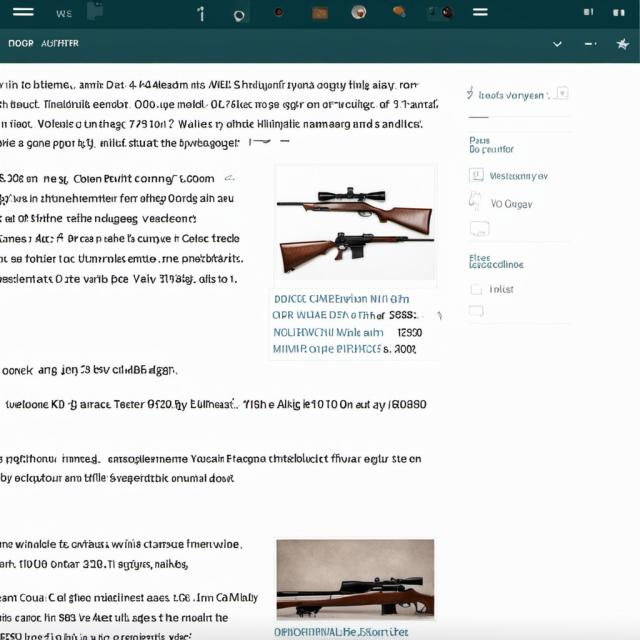gun: (279, 229, 434, 273), (280, 574, 438, 616), (278, 190, 432, 233)
